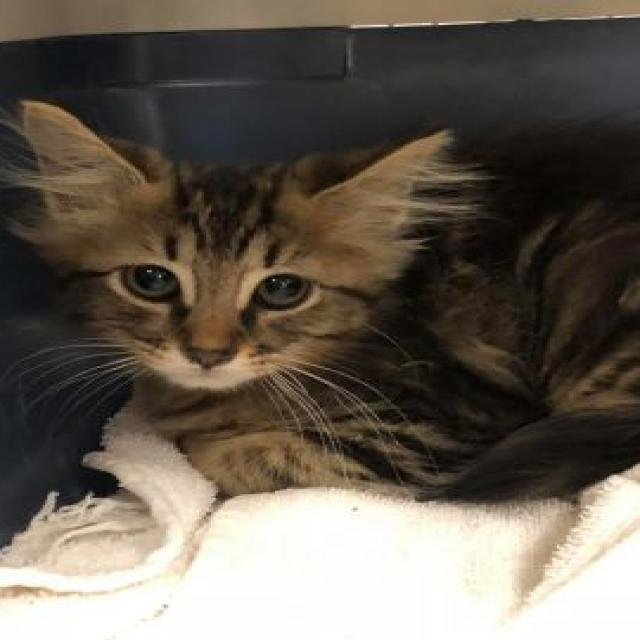Maine Coon: (4, 90, 640, 497)
